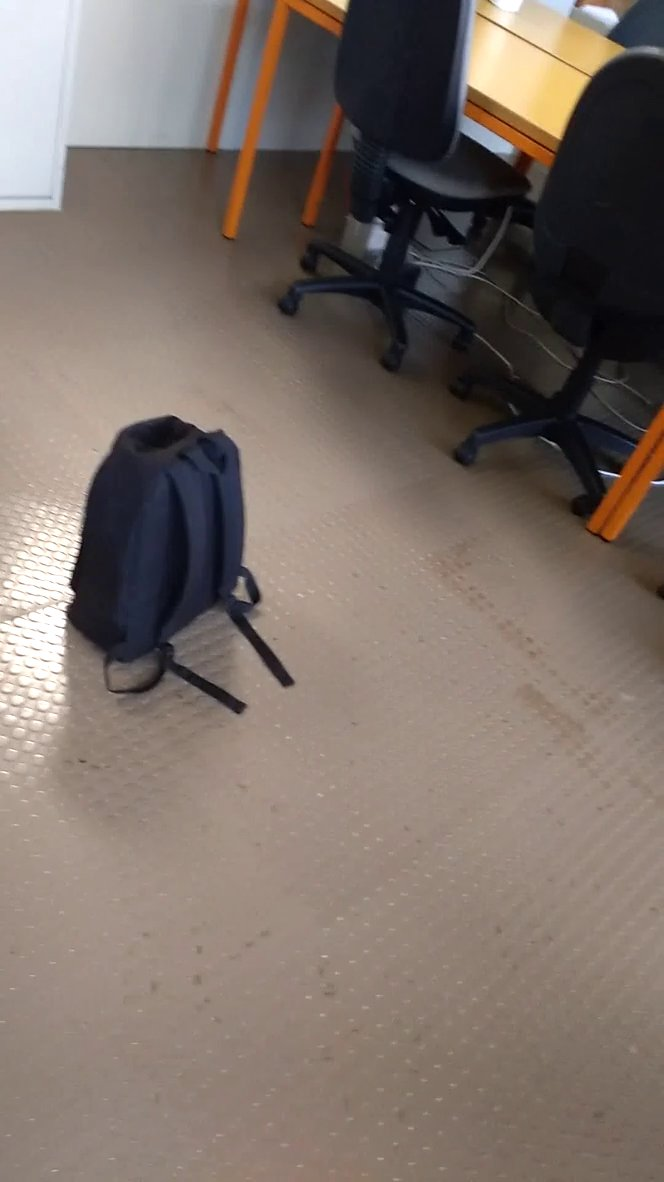bag: (63, 402, 314, 723)
chair: (277, 3, 537, 378), (529, 24, 664, 424)
